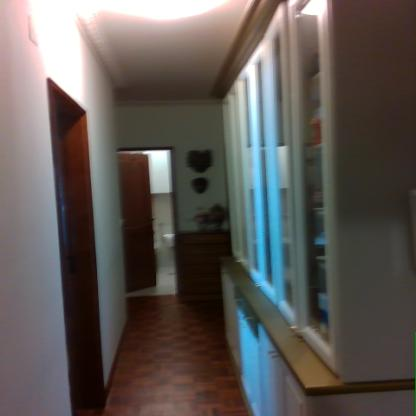semi: (110, 139, 187, 307)
